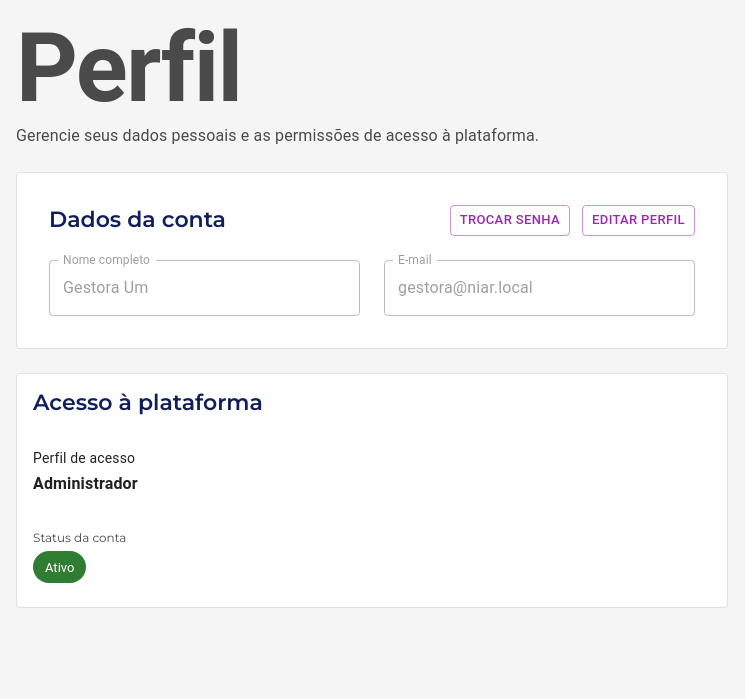
Test case: Perfil — edição, senha e download › mostra o erro da API no Snackbar
What coordinates should you click on to do the following:
click the button "Editar perfil"
I would click on:
 (638, 220)
Its box is [582,205,695,236].
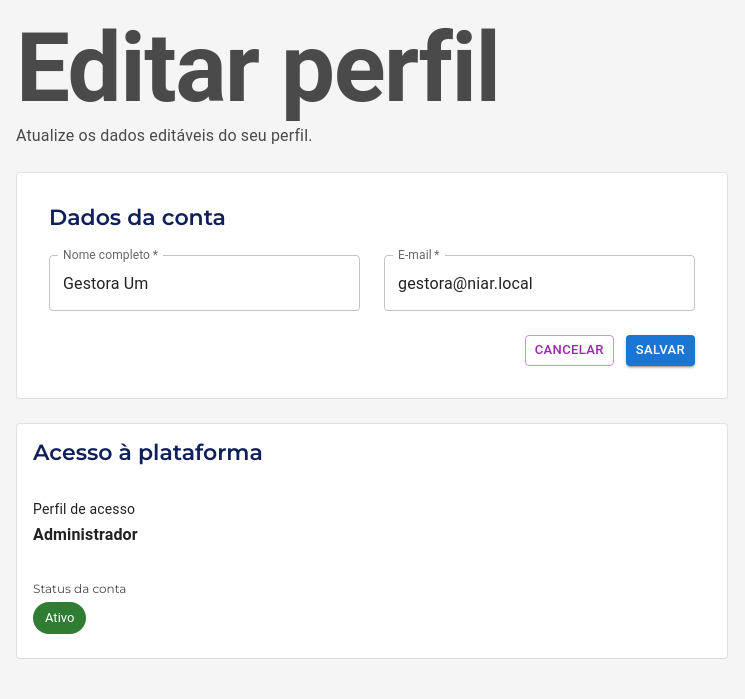
What coordinates should you click on to do the following:
click the button "Salvar"
I would click on:
 (660, 351)
Its box is [626,335,695,366].
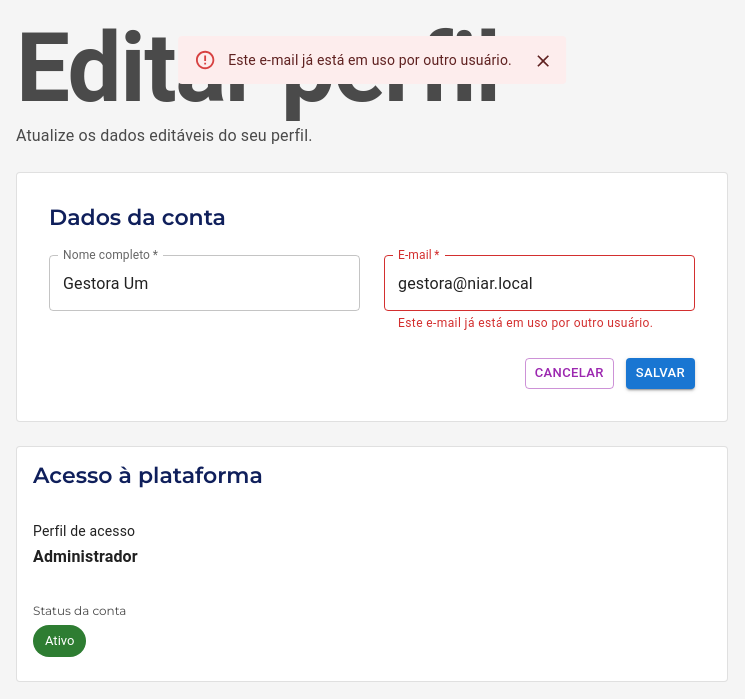
Expected: the message reads "Este e-mail já está em uso por outro usuário.", [228,52,512,68]
